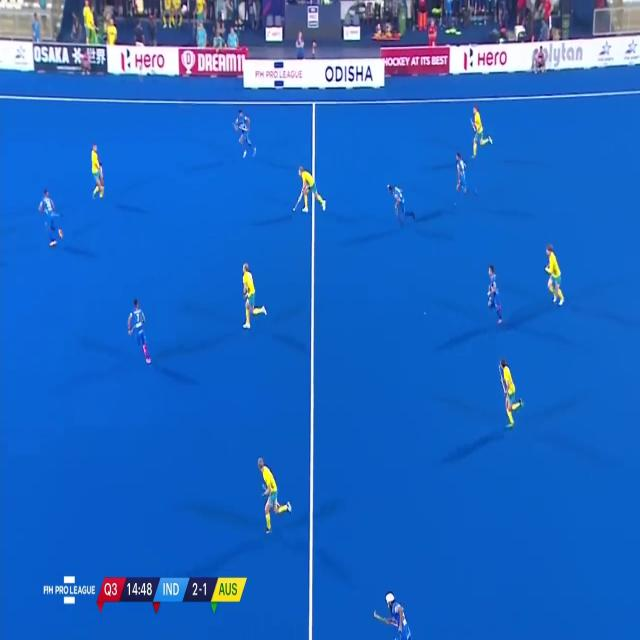ball: (290, 205, 298, 213)
